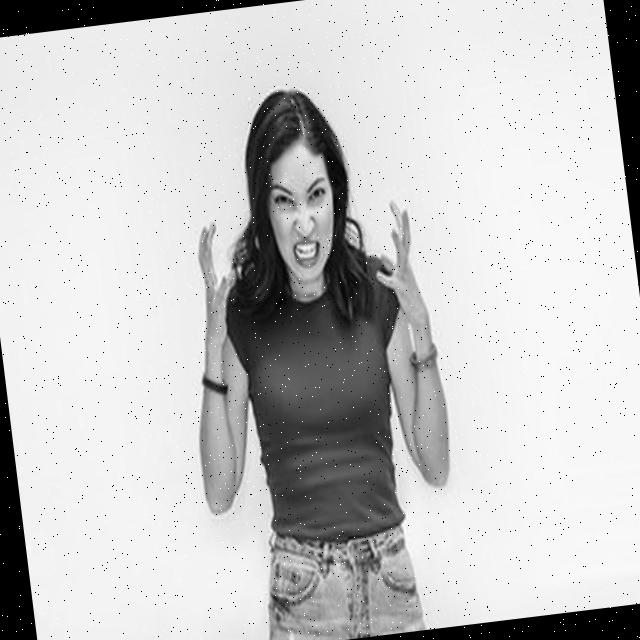Angry: (261, 151, 342, 286)
